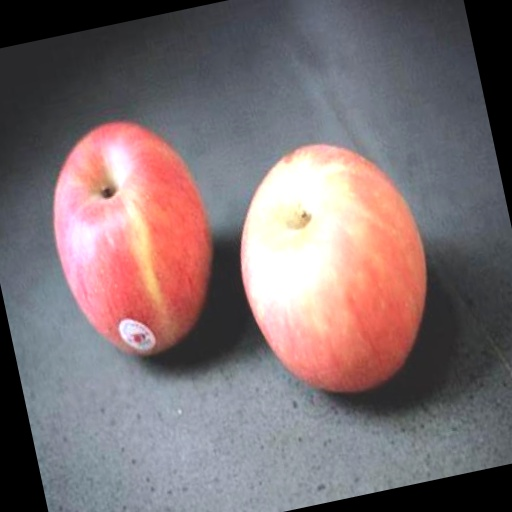fruit: (13, 113, 399, 483), (339, 108, 512, 473)
